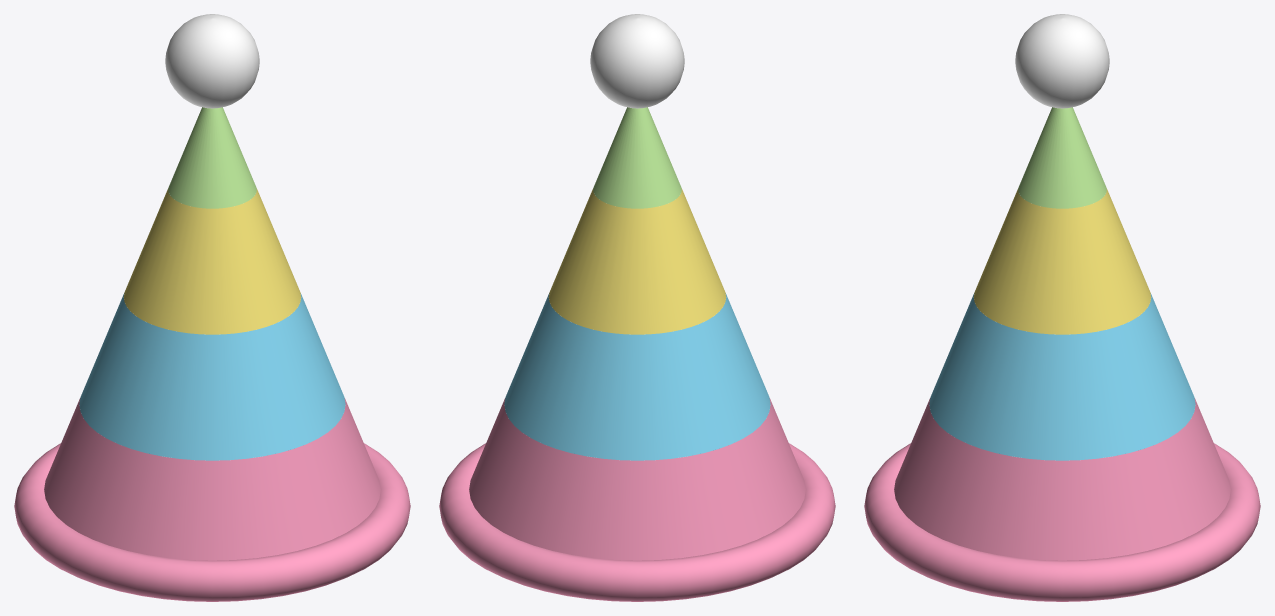
Rendered from party-hat.glb.
The picture shows the model from 3 angles, left to right: view 1: azimuth 30°, elevation 25°; view 2: azimuth 150°, elevation 25°; view 3: azimuth 270°, elevation 25°; orthographic projection.
Bounding box in the file's own units: 13.4 × 18.9 × 13.4.
